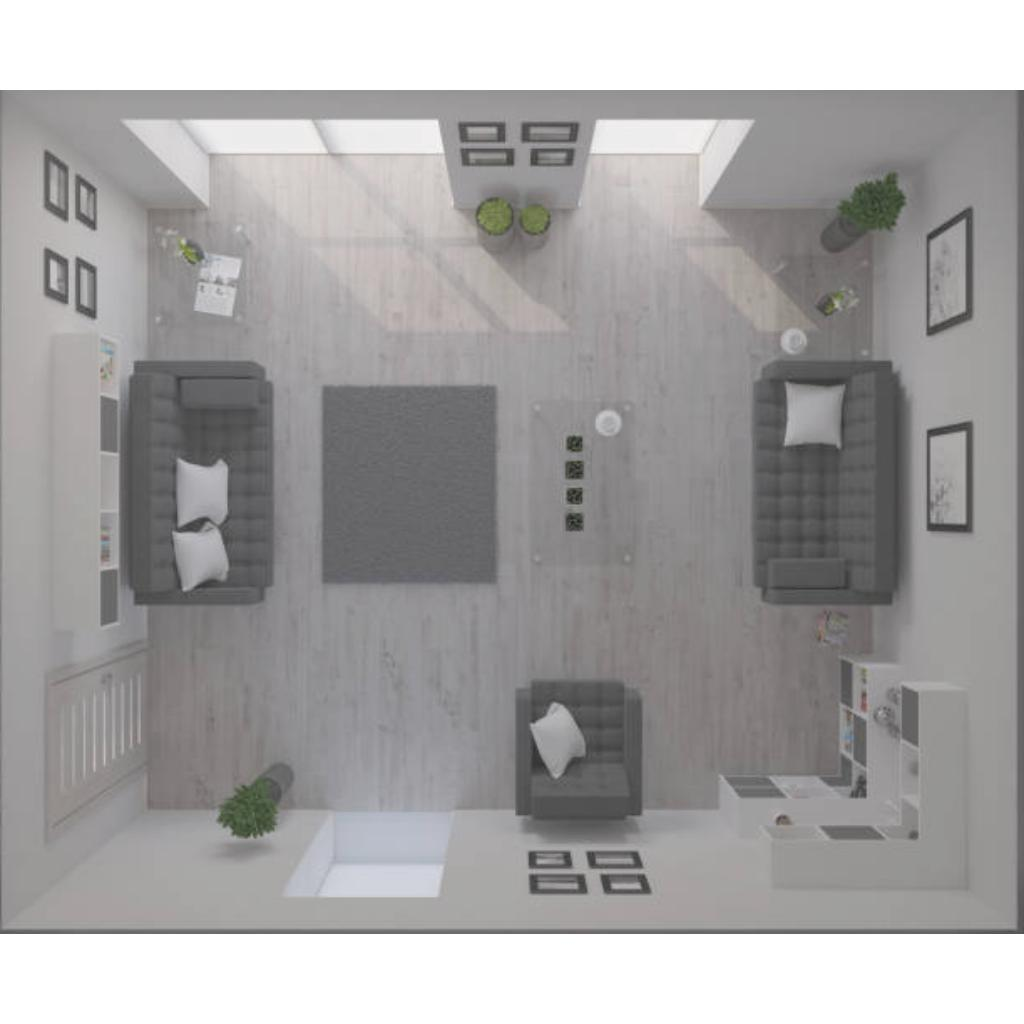bookshelf: (718, 652, 918, 842)
chair: (514, 679, 644, 821)
coffee table: (529, 402, 637, 570)
floor plant: (237, 760, 297, 812), (474, 200, 514, 242), (822, 214, 866, 252), (518, 200, 556, 240)
rug: (322, 386, 498, 588)
shelves: (60, 338, 120, 632)
side table: (148, 220, 264, 332), (775, 258, 873, 354)
sofa: (124, 358, 278, 608), (752, 360, 898, 604)
window: (134, 119, 312, 135), (289, 880, 439, 898), (596, 120, 754, 136), (314, 119, 438, 135)
